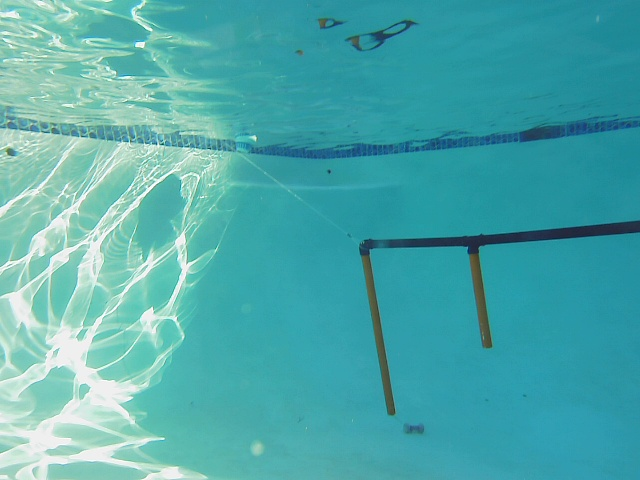Gate: (358, 249, 396, 416), (465, 248, 493, 352)
